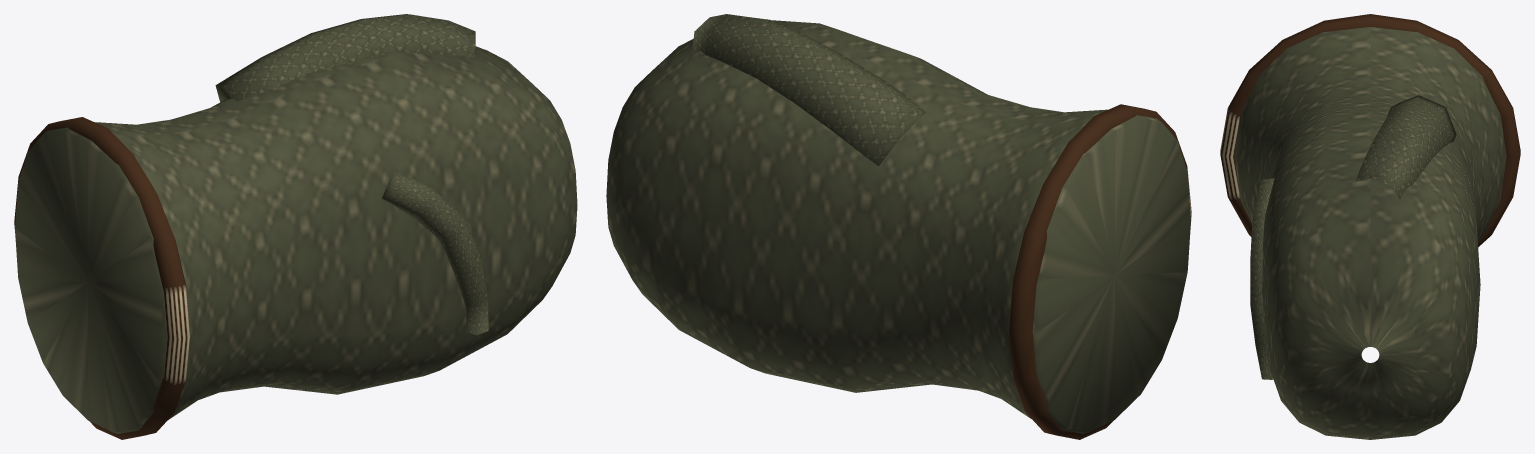
File: dass.glb
3 views of the same model, side by side, from view 1: azimuth 30°, elevation 25°; view 2: azimuth 150°, elevation 25°; view 3: azimuth 270°, elevation 25° (orthographic). The views are drawn at different scales.
Visible parts, largest first — view 1: dass_glove; view 2: dass_glove; view 3: dass_glove.
Boxes of the visible parts, bbox=[...] form: dass_glove: bbox=[14, 14, 577, 439]; dass_glove: bbox=[606, 14, 1191, 439]; dass_glove: bbox=[1220, 14, 1520, 439].
Bounding box in the file's own units: 0.166 × 0.1125 × 0.1009.
1 material, 1 textured.
